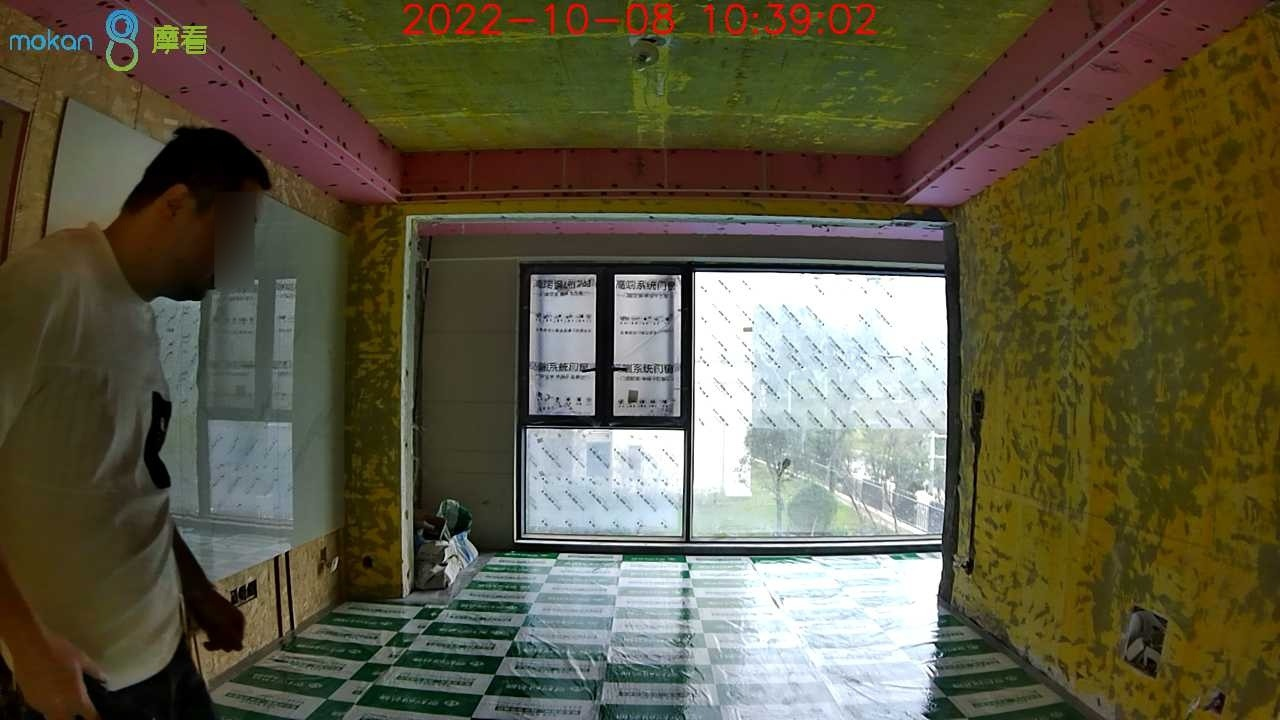people: (17, 125, 270, 720)
window: (519, 257, 949, 545)
